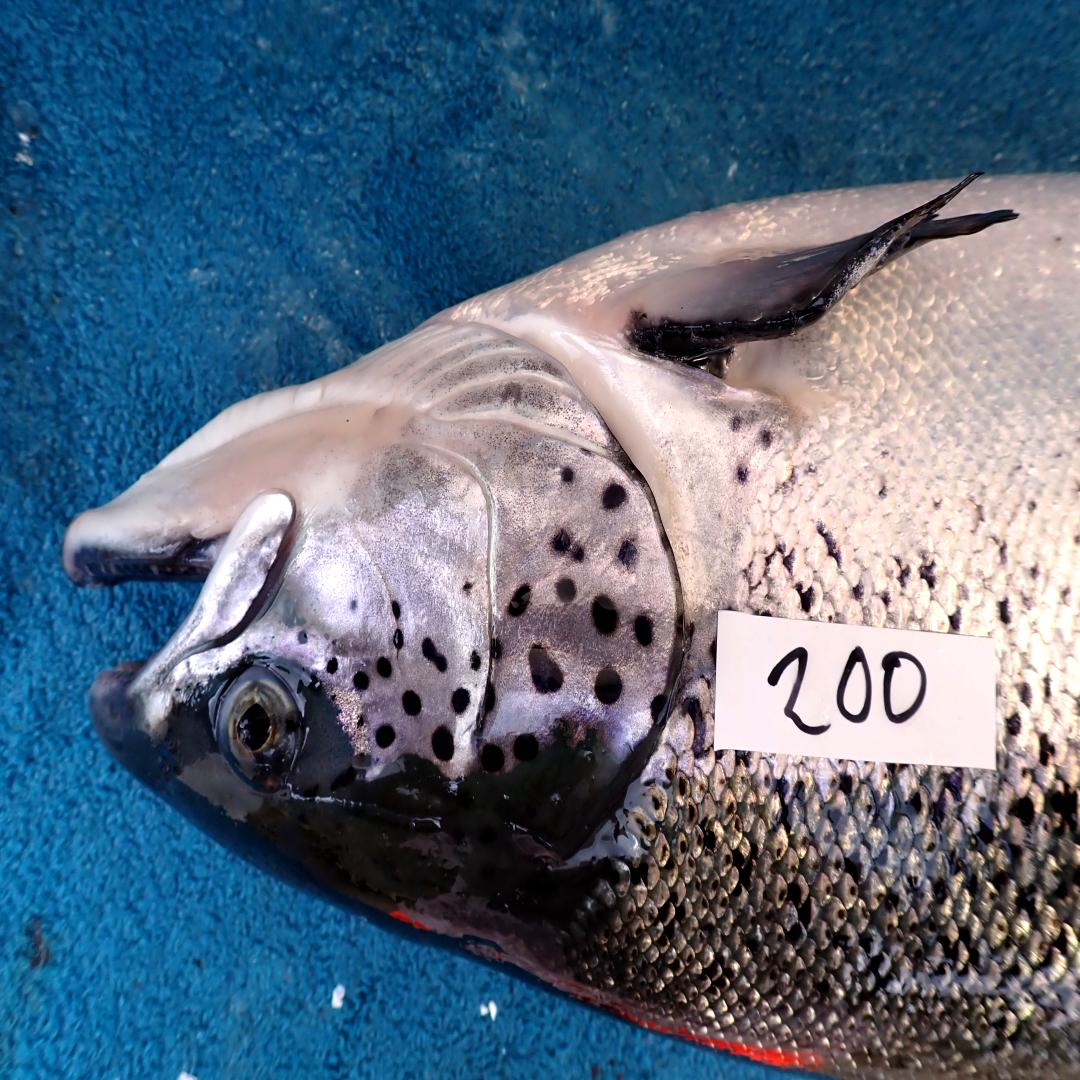roi: (296, 315, 684, 781)
